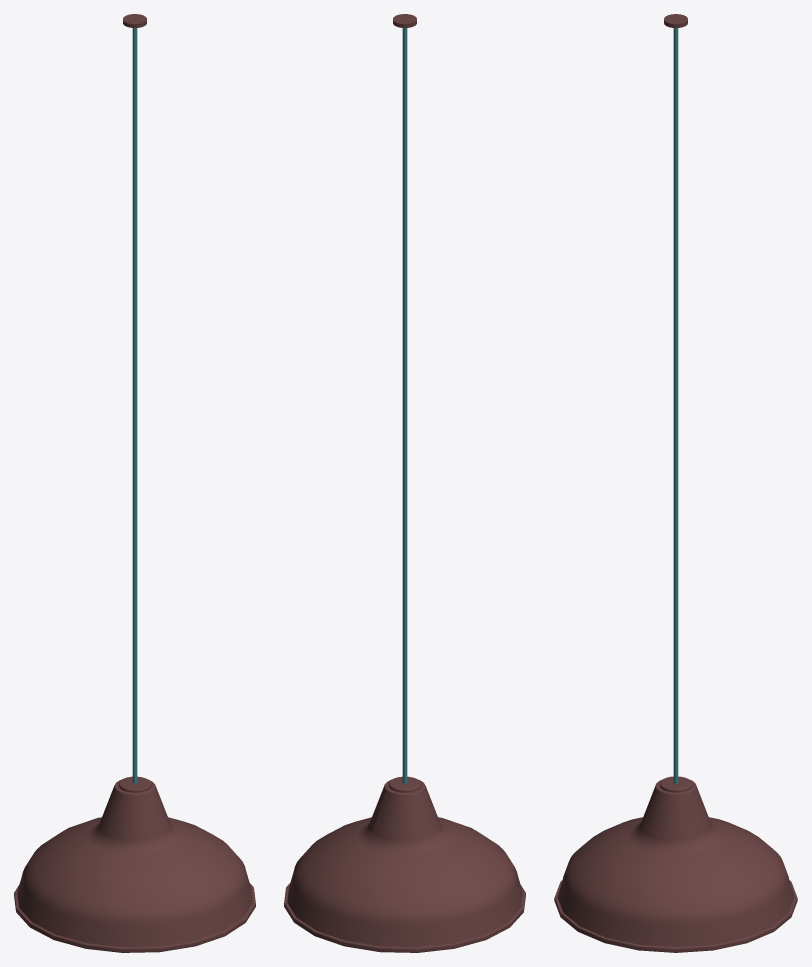
3 views of the same model, side by side, from view 1: azimuth 30°, elevation 25°; view 2: azimuth 150°, elevation 25°; view 3: azimuth 270°, elevation 25° (orthographic).
Visible parts, largest first — view 1: pSphere1; view 2: pSphere1; view 3: pSphere1.
Part boxes in pixels (x1,y1,x2,y2): pSphere1: [14, 14, 255, 952]; pSphere1: [284, 14, 525, 952]; pSphere1: [554, 14, 797, 952].
Size of the model in its own units: 53.5 by 214 by 53.5.
